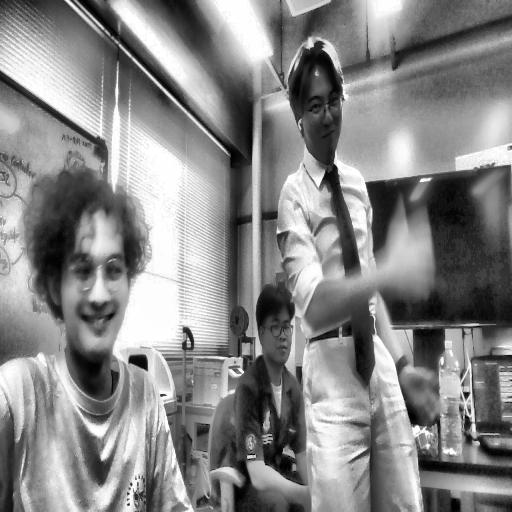Daifuku: (24, 160, 144, 370)
Not Daifuku: (289, 29, 349, 163), (254, 282, 292, 374)
